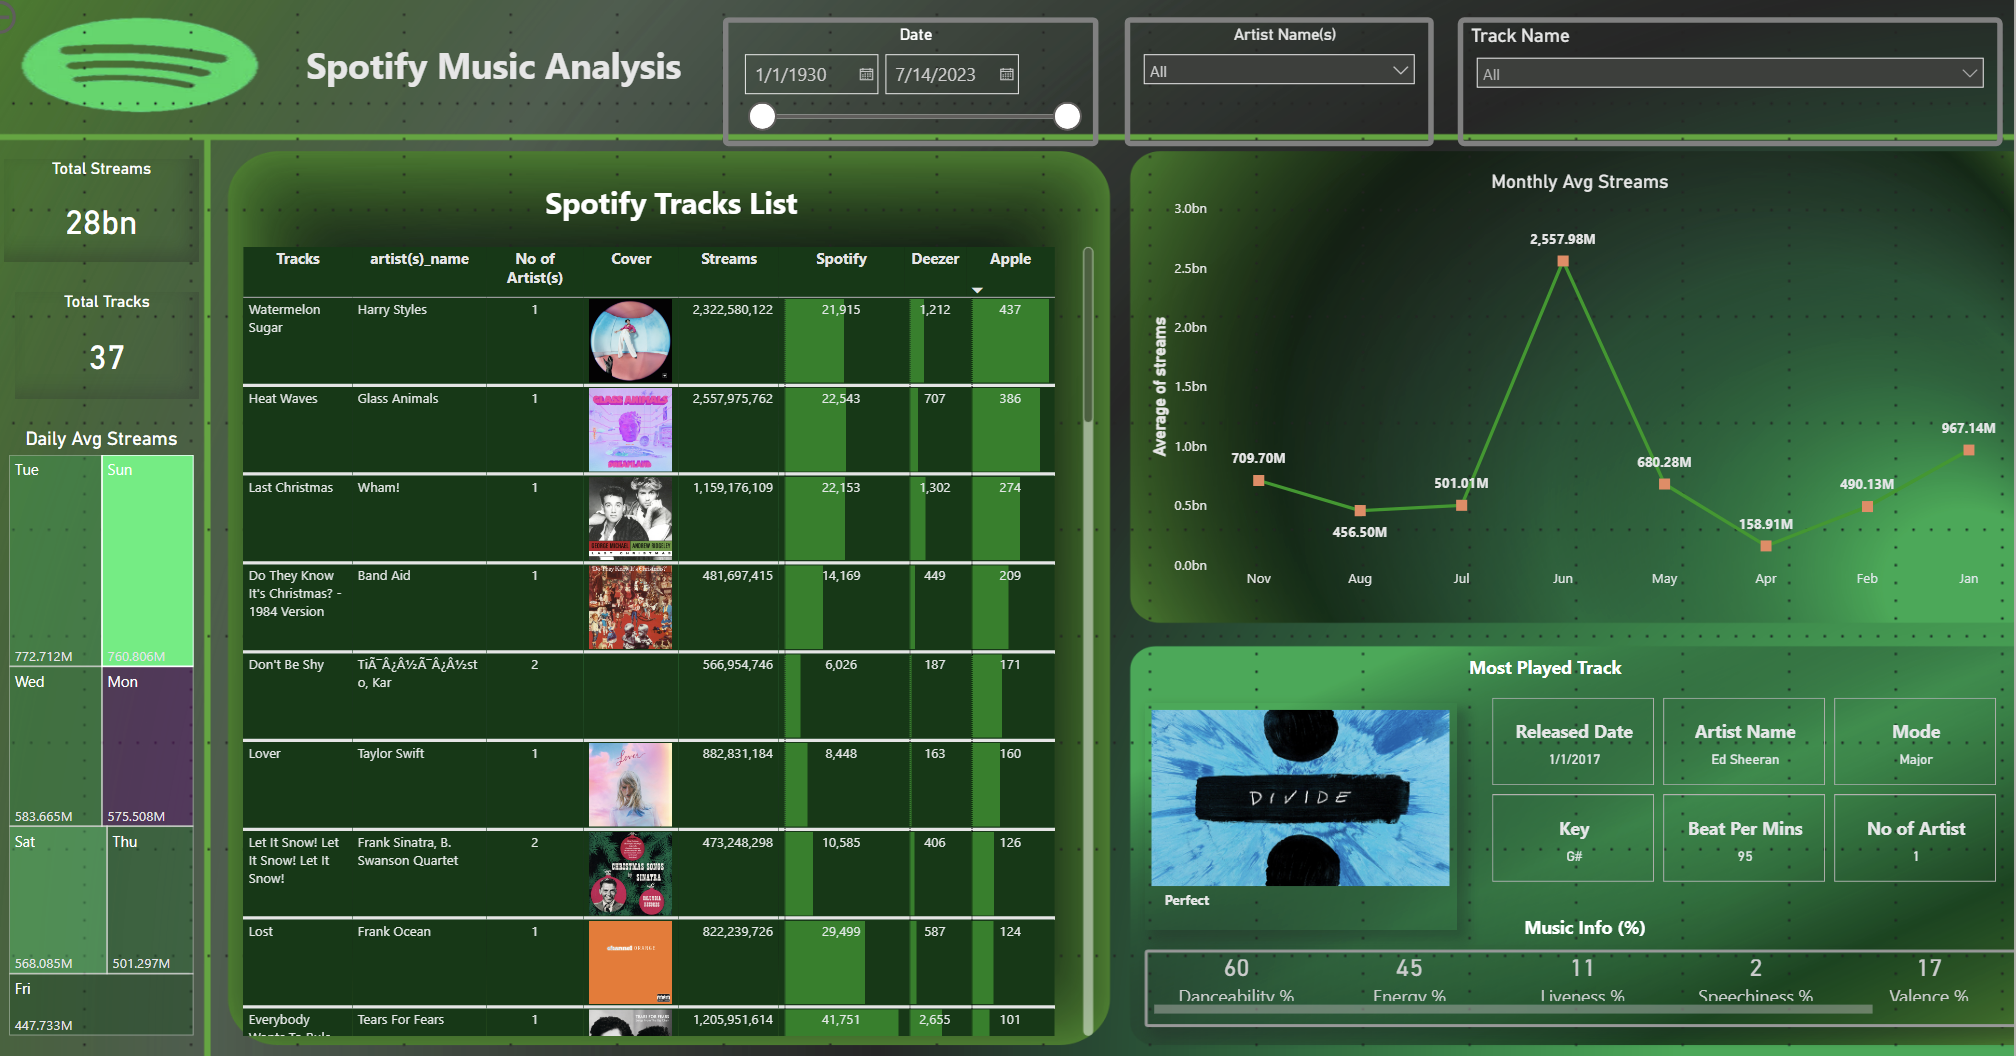

This screenshot's page, from the dashboard's own definition file:
{"tool":"powerbi","page":{"name":"Page 1","canvas":[1880,960],"ordinal":0},"visuals":[{"type":"card","title":"Total Streams","fields":{"Values":["Sum(Spotify Dataset.streams)"]},"box":[24.1,148.2,176.1,92.5],"z":0},{"type":"card","title":"Total Tracks","fields":{"Values":["CountNonNull(Spotify Dataset.track_name)"]},"box":[34.2,267.3,166,96.3],"z":1000},{"type":"treemap","title":"Daily Avg Streams","fields":{"Group":["Date.Day"],"Values":["Avg(Spotify Dataset.streams)"]},"box":[24.1,390.2,176.1,552.3],"z":2000},{"type":"cardVisual","fields":{"Data":["Sum(Spotify Dataset.danceability_%)","Sum(Spotify Dataset.energy_%)","Sum(Spotify Dataset.liveness_%)","Sum(Spotify Dataset.speechiness_%)","Sum(Spotify Dataset.valence_%)","Sum(Spotify Dataset.acousticness_%)"]},"box":[1052.7,860.2,793,69.7],"z":3000},{"type":"textbox","box":[1384.7,823.5,129.2,35.5],"z":4000},{"type":"actionButton","box":[0,0,100,40],"z":5000},{"type":"slicer","title":"Date","fields":{"Values":["Date.Date"]},"box":[687.7,20.4,288.2,86.2],"z":6000},{"type":"slicer","title":"Artist Name(s)","fields":{"Values":["Spotify Dataset.artist(s)_name"]},"box":[1040.6,20.4,185,86.2],"z":7000},{"type":"slicer","title":"Track Name ","fields":{"Values":["Spotify Dataset.track_name"]},"box":[1289.1,20.4,168,86.2],"z":8000},{"type":"textbox","box":[217.9,35.5,442.1,55.7],"z":9000},{"type":"tableEx","fields":{"Values":["Spotify Dataset.track_name","Spotify Dataset.artist(s)_name","Sum(Spotify Dataset.artist_count)","Spotify Dataset.cover_url","Sum(Spotify Dataset.streams)","Sum(Spotify Dataset.in_spotify_playlists)","Sum(Spotify Dataset.in_deezer_playlists)","Sum(Spotify Dataset.in_apple_playlists)"]},"box":[234.4,221.7,776.6,720.8],"z":10000},{"type":"slicer","title":"Spotify Tracks","fields":{"Values":["Spotify Dataset.track_name"]},"box":[254.6,148.2,709.4,58.3],"z":11000},{"type":"textbox","box":[1312.5,589.1,201.4,36.7],"z":12000},{"type":"advancedSlicerVisual","fields":{"Values":["Spotify Dataset.cover_url"]},"box":[1052.7,637.2,281.2,204],"z":13000},{"type":"cardVisual","fields":{"Data":["Min(Spotify Dataset.Date)","Min(Spotify Dataset.artist(s)_name)","Min(Spotify Dataset.mode)","Min(Spotify Dataset.key)","Sum(Spotify Dataset.bpm)","Sum(Spotify Dataset.artist_count)"]},"box":[1359.3,628.4,466.2,176.1],"z":14000},{"type":"areaChart","title":"Monthly Avg Streams","fields":{"Category":["Date.MonthName"],"Y":["Avg(Spotify Dataset.streams)"]},"box":[1052.7,157.1,784.2,386.4],"z":15000}]}

Visuals, with their boxes in screenshot pixels (x1, y1, x2, y2), scaled from the page's 1880x960 canvas onto the 2016x1056 screenshot:
"Total Streams" card: <box>26,163,215,265</box>
"Total Tracks" card: <box>37,294,215,400</box>
"Daily Avg Streams" treemap: <box>26,429,215,1037</box>
cardVisual - Sum(Spotify Dataset.danceability_%) x Sum(Spotify Dataset.energy_%): <box>1129,946,1979,1023</box>
textbox: <box>1485,906,1623,945</box>
actionButton: <box>0,0,107,44</box>
"Date" slicer: <box>737,22,1046,117</box>
"Artist Name(s)" slicer: <box>1116,22,1314,117</box>
"Track Name " slicer: <box>1382,22,1563,117</box>
textbox: <box>234,39,708,100</box>
tableEx - Spotify Dataset.track_name x Spotify Dataset.artist(s)_name: <box>251,244,1084,1037</box>
"Spotify Tracks" slicer: <box>273,163,1034,227</box>
textbox: <box>1407,648,1623,688</box>
advancedSlicerVisual - Spotify Dataset.cover_url: <box>1129,701,1430,925</box>
cardVisual - Min(Spotify Dataset.Date) x Min(Spotify Dataset.artist(s)_name): <box>1458,691,1958,885</box>
"Monthly Avg Streams" areaChart: <box>1129,173,1970,598</box>
